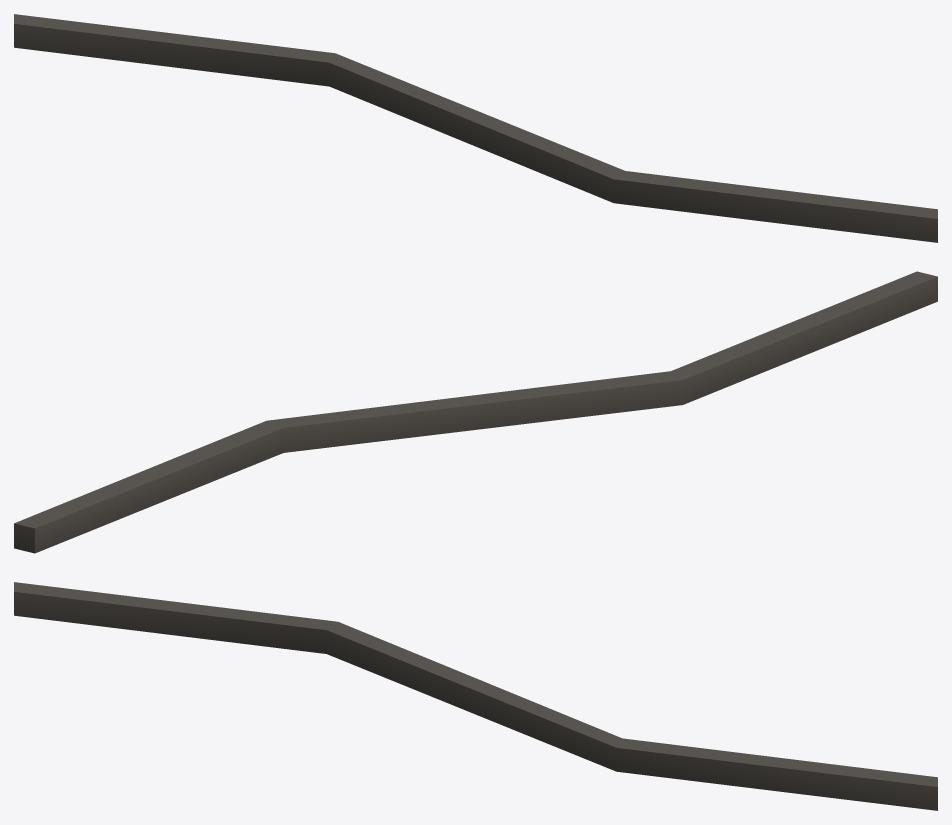
Rendered from Env_Block_CurveB_col.fbx.
The picture shows the model from 3 angles, top to bottom: view 1: azimuth 90°, elevation 25°; view 2: azimuth 150°, elevation 25°; view 3: azimuth 270°, elevation 25°; orthographic projection. The views are drawn at different scales.
Visible parts, largest first — view 1: Env_Block_CurveB_col; view 2: Env_Block_CurveB_col; view 3: Env_Block_CurveB_col.
Boxes of the visible parts, x1,y1,x2,y2 form: Env_Block_CurveB_col: (14,14,937,242); Env_Block_CurveB_col: (14,271,937,553); Env_Block_CurveB_col: (14,582,937,810).
Bounding box in the file's own units: 2100 × 114 × 4000.
